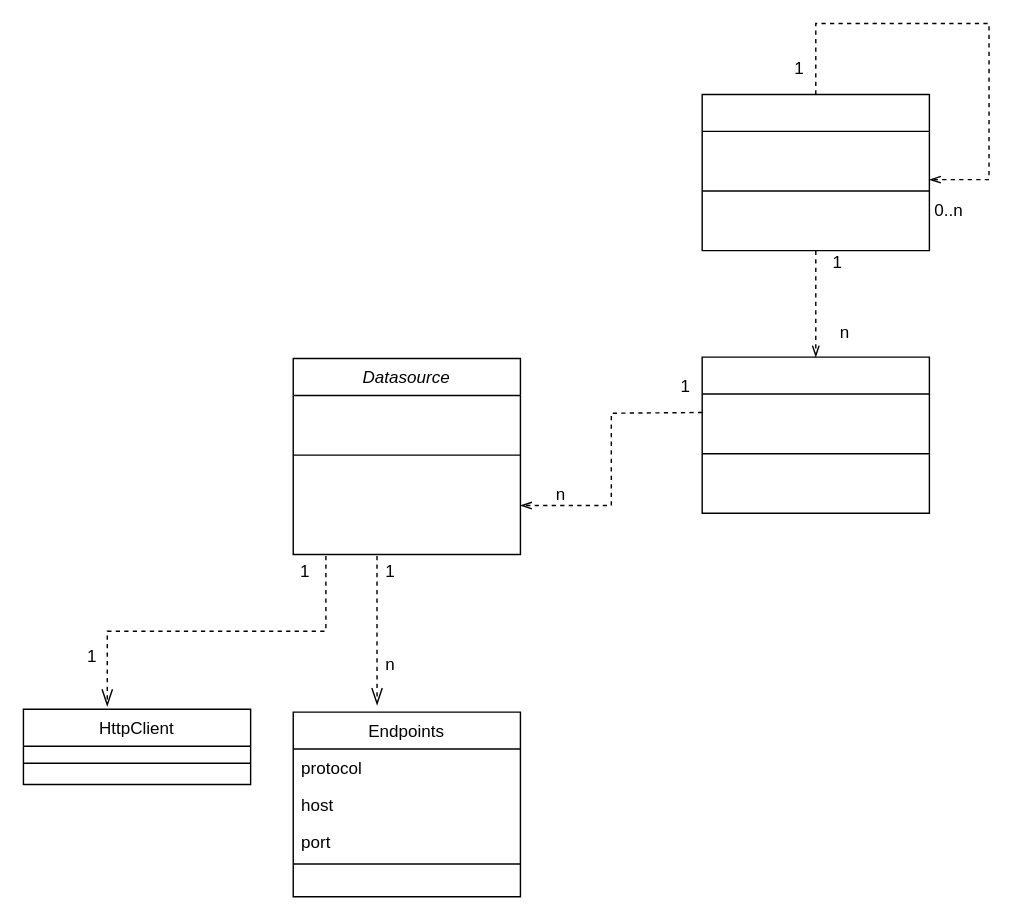
Some shapes in this 1012 by 920 pixel diagram are drawn without their labels. The box of each missing label's shape, as (x1, y1, x2, y2) in pixels:
Repository: (701, 356, 929, 513)
UseCase: (701, 93, 929, 251)
